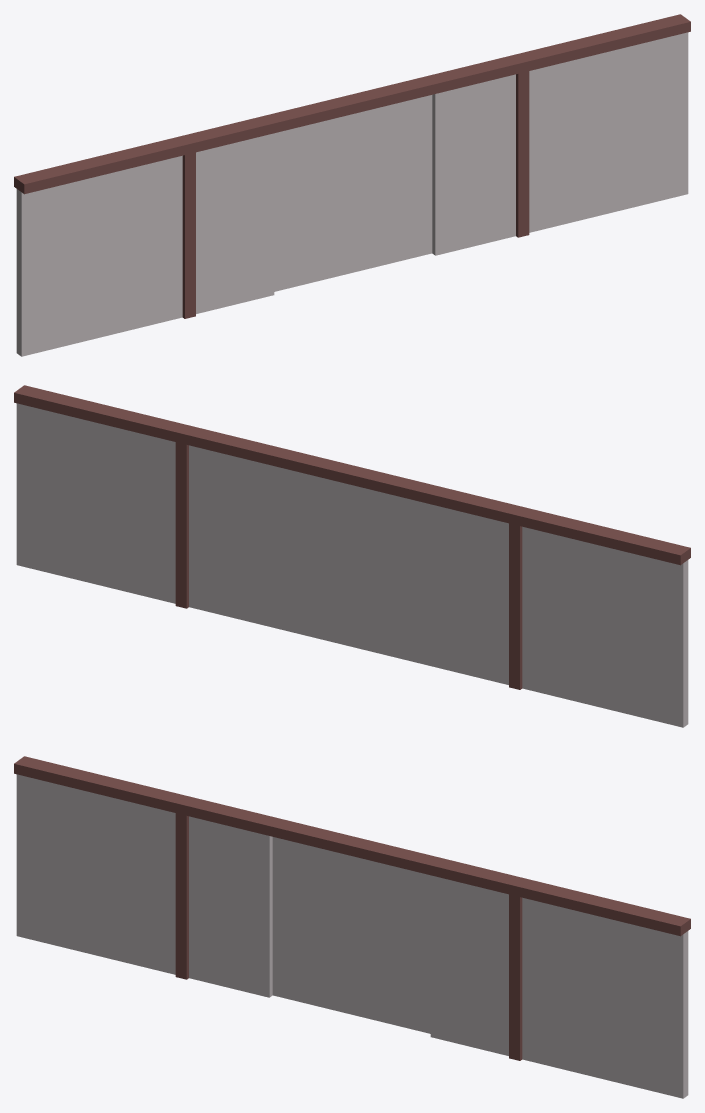
Rendered from BWallPannelDoor_AB.fbx.
The picture shows the model from 3 angles, top to bottom: view 1: azimuth 30°, elevation 25°; view 2: azimuth 150°, elevation 25°; view 3: azimuth 330°, elevation 25°; orthographic projection.
Parts seen in each view (by area): view 1: BWallPanel_Door_AB; view 2: BWallPanel_Door_AB; view 3: BWallPanel_Door_AB.
Part boxes in pixels (<box>): BWallPanel_Door_AB: <box>14,14,690,356</box>; BWallPanel_Door_AB: <box>14,385,690,727</box>; BWallPanel_Door_AB: <box>14,756,690,1098</box>.
Bounding box in the file's own units: 1600 × 400 × 43.
